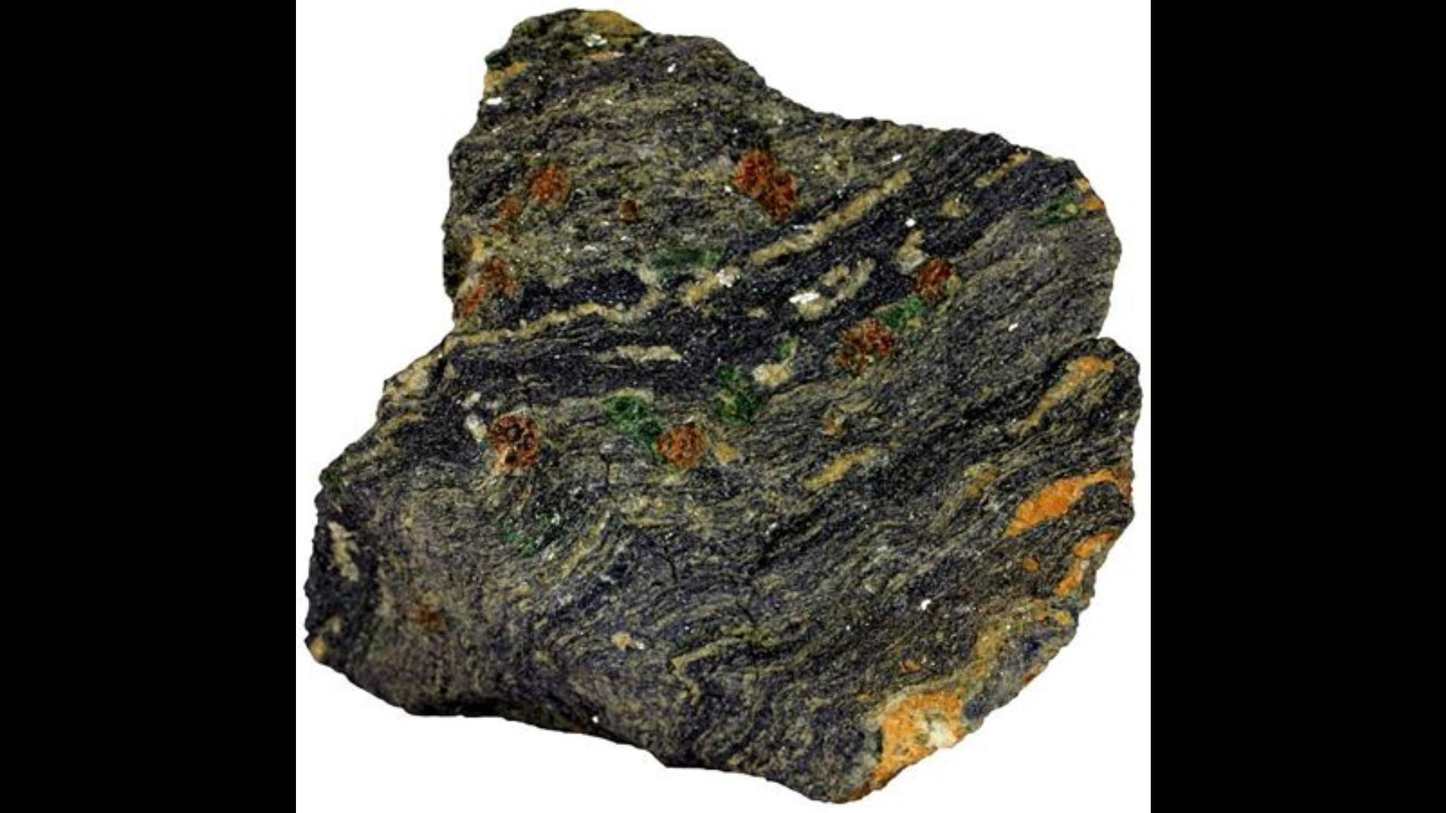rock: (306, 11, 1139, 800)
